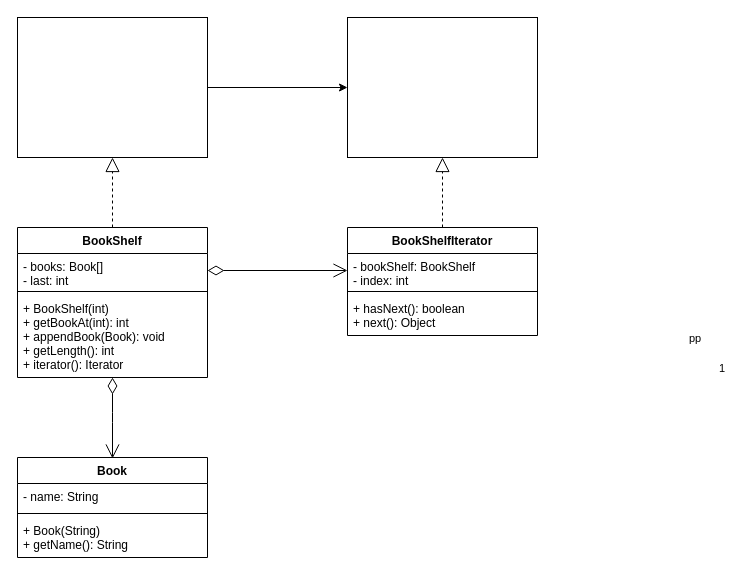
The diagram is 743 pixels wide and 578 high, and some of its shapes have lost their labels. The centre of each missing label's shape, as x and y in pixels:
"<<Interface>> Aggregate + iterator(): Iterator" goes at (112,87).
"<<Interface>> Iterator + hasNext(): boolean + next(): Object" goes at (442,87).
